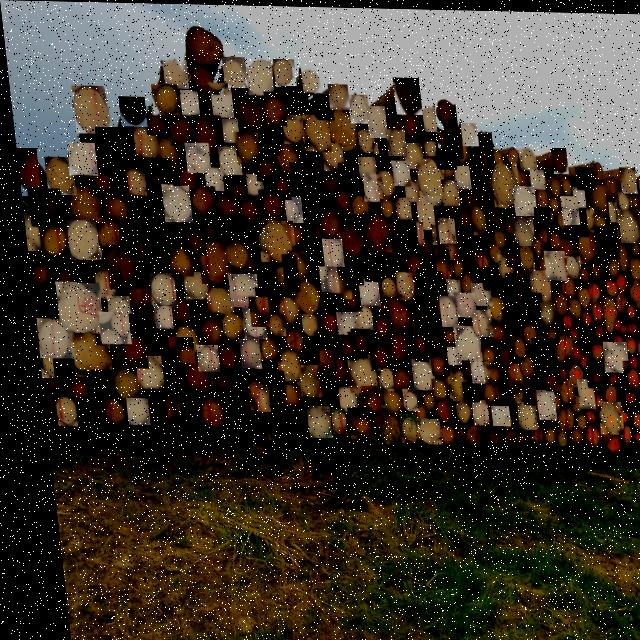wood-log: (49, 281, 98, 333), (58, 333, 105, 377), (92, 126, 134, 175), (69, 86, 109, 134), (100, 244, 142, 289), (252, 219, 292, 262), (184, 24, 223, 65), (192, 239, 227, 284), (29, 318, 67, 359), (286, 161, 321, 203), (61, 220, 97, 260), (486, 160, 517, 206), (329, 212, 362, 255), (23, 188, 59, 227), (231, 90, 266, 129), (130, 233, 165, 272), (323, 108, 356, 149), (412, 157, 443, 200), (41, 157, 75, 196), (64, 185, 99, 222), (338, 352, 370, 392), (171, 360, 204, 398), (190, 114, 221, 154), (295, 335, 329, 370), (157, 184, 188, 222), (13, 148, 37, 197), (299, 113, 329, 151), (446, 323, 475, 362), (211, 388, 242, 424), (109, 332, 140, 368), (287, 276, 317, 313), (127, 355, 157, 392), (244, 57, 273, 95), (222, 272, 253, 307), (391, 76, 420, 113), (91, 312, 124, 344), (359, 211, 386, 250), (64, 142, 94, 177), (279, 85, 308, 121), (130, 196, 160, 230), (429, 204, 455, 243), (467, 130, 492, 170), (34, 226, 64, 259), (199, 287, 228, 321), (310, 201, 337, 237), (381, 296, 407, 333), (143, 272, 171, 306), (411, 194, 439, 228), (140, 158, 169, 190), (149, 83, 178, 115), (524, 336, 549, 373), (116, 96, 145, 127), (100, 295, 128, 327), (253, 398, 281, 430), (130, 126, 157, 159), (164, 292, 191, 325), (254, 190, 281, 223), (287, 363, 314, 396), (588, 399, 615, 432), (583, 177, 608, 212), (84, 269, 112, 300), (151, 218, 178, 250), (231, 131, 258, 163), (338, 406, 365, 438), (268, 348, 294, 381), (406, 299, 432, 332), (176, 271, 206, 299), (613, 206, 637, 241), (187, 185, 214, 216), (104, 367, 131, 398), (165, 326, 192, 357), (189, 312, 216, 343), (297, 405, 323, 437), (18, 210, 38, 251), (181, 142, 208, 172), (45, 256, 72, 286), (220, 240, 247, 270), (595, 339, 621, 370), (569, 227, 592, 262), (378, 330, 403, 362), (374, 241, 399, 273), (191, 396, 215, 429), (432, 97, 456, 130), (262, 91, 285, 125), (523, 268, 546, 302), (272, 140, 298, 170), (269, 296, 295, 326), (214, 145, 239, 176), (91, 217, 116, 248), (153, 344, 178, 375), (221, 56, 246, 87), (82, 370, 107, 401), (235, 307, 260, 338), (335, 162, 359, 194), (403, 357, 427, 389), (438, 366, 461, 399), (160, 336, 188, 363), (161, 59, 187, 88), (100, 196, 126, 225), (67, 401, 92, 431), (508, 184, 533, 214), (320, 267, 345, 297), (208, 86, 232, 117), (307, 377, 330, 409), (592, 224, 615, 256), (214, 314, 240, 342), (163, 247, 188, 276), (122, 283, 147, 312), (143, 105, 167, 135), (168, 115, 192, 145), (86, 167, 110, 197), (538, 248, 562, 278), (138, 390, 159, 424), (410, 267, 433, 298), (279, 114, 302, 145), (231, 337, 254, 368), (23, 259, 46, 290), (87, 318, 114, 344), (507, 215, 531, 244), (211, 341, 233, 372), (188, 344, 213, 371), (407, 416, 432, 443), (117, 397, 141, 425), (297, 226, 321, 254), (364, 104, 385, 136), (169, 391, 191, 421), (46, 396, 68, 426), (317, 355, 339, 385), (242, 296, 263, 327), (43, 355, 67, 382), (188, 63, 212, 90), (276, 253, 293, 291), (59, 375, 82, 403), (155, 138, 178, 166), (272, 58, 295, 86), (318, 142, 341, 170), (266, 266, 289, 294), (369, 140, 392, 168), (92, 397, 115, 425), (316, 237, 339, 265), (352, 277, 374, 306), (346, 93, 368, 122), (507, 399, 529, 428), (281, 250, 303, 279), (527, 388, 548, 418), (117, 219, 141, 245), (253, 370, 277, 396), (432, 294, 452, 325), (213, 191, 235, 219), (203, 367, 224, 396), (311, 349, 332, 378), (352, 385, 372, 415), (556, 193, 576, 223), (251, 155, 274, 181), (447, 290, 470, 316), (329, 384, 351, 411), (479, 295, 501, 322), (578, 359, 600, 386), (464, 308, 486, 335), (122, 167, 143, 195), (487, 341, 508, 369), (383, 127, 404, 155), (178, 89, 198, 118), (239, 381, 259, 410), (494, 278, 514, 307), (558, 205, 578, 234), (489, 377, 506, 411), (389, 219, 413, 243), (374, 388, 397, 413), (171, 164, 193, 190), (272, 384, 294, 410), (233, 197, 255, 223), (326, 83, 348, 109), (568, 377, 587, 407), (390, 412, 409, 442), (255, 128, 276, 155), (311, 92, 332, 119), (359, 173, 380, 200), (467, 205, 487, 233), (388, 270, 408, 298), (372, 169, 392, 197), (440, 129, 460, 157), (301, 257, 324, 281), (121, 314, 145, 337), (437, 177, 456, 206), (614, 358, 633, 387), (348, 194, 370, 219), (251, 335, 273, 360), (178, 229, 200, 254), (612, 385, 634, 410), (344, 327, 366, 352), (299, 65, 320, 91), (400, 141, 421, 167), (387, 159, 408, 185), (245, 250, 266, 276), (362, 343, 383, 369), (419, 328, 439, 355), (267, 172, 287, 199), (337, 257, 357, 284), (340, 330, 360, 357), (30, 345, 46, 378), (249, 287, 271, 311), (329, 310, 351, 334), (398, 111, 418, 137), (510, 244, 530, 270), (280, 196, 300, 222), (31, 284, 51, 310), (313, 265, 333, 291), (312, 309, 331, 336), (194, 216, 216, 239), (464, 281, 486, 304), (34, 377, 55, 401), (355, 129, 376, 153), (566, 206, 584, 234), (200, 166, 220, 191), (365, 311, 385, 336), (329, 334, 349, 359), (615, 165, 634, 191), (432, 216, 451, 242), (462, 397, 480, 424), (146, 305, 167, 328), (411, 238, 431, 262), (433, 123, 453, 147), (384, 218, 404, 242), (404, 332, 421, 360), (384, 365, 403, 390), (329, 188, 348, 213), (513, 378, 532, 403), (420, 105, 438, 131), (450, 205, 468, 231), (354, 155, 374, 178), (495, 309, 514, 333), (515, 144, 534, 168), (548, 146, 565, 172), (391, 196, 408, 222), (399, 251, 419, 273), (224, 174, 244, 196), (294, 313, 314, 335), (242, 173, 261, 196), (336, 287, 355, 310), (219, 118, 237, 142), (348, 305, 366, 329), (321, 407, 337, 434), (357, 256, 375, 280), (402, 220, 420, 244), (535, 365, 553, 389), (558, 253, 576, 277), (491, 252, 508, 277), (426, 223, 447, 243), (69, 262, 89, 283), (227, 367, 246, 389), (426, 397, 445, 419), (499, 239, 515, 265), (450, 164, 468, 187), (458, 121, 476, 144), (319, 170, 336, 194), (246, 386, 262, 411), (432, 149, 453, 168), (261, 313, 279, 335), (572, 165, 590, 187), (533, 300, 550, 323), (475, 265, 492, 288), (576, 206, 592, 230), (517, 291, 536, 311), (482, 404, 501, 424), (460, 185, 478, 206), (508, 271, 526, 292), (450, 139, 467, 161), (225, 215, 242, 237), (446, 399, 463, 421), (374, 274, 391, 296), (393, 387, 409, 410), (462, 359, 478, 382), (422, 355, 441, 374), (480, 324, 500, 342), (400, 178, 416, 200), (370, 367, 386, 389), (467, 360, 483, 382), (429, 247, 445, 269), (602, 190, 615, 216), (526, 167, 542, 188), (631, 388, 640, 424), (530, 205, 547, 224), (568, 185, 582, 208), (499, 361, 513, 384), (454, 380, 470, 400), (376, 197, 391, 218), (423, 377, 440, 395), (439, 345, 455, 364), (476, 381, 490, 402), (25, 286, 35, 315), (440, 277, 455, 296), (282, 410, 297, 429), (454, 358, 468, 378), (206, 81, 227, 94), (438, 239, 452, 258), (604, 200, 616, 222), (35, 397, 44, 425), (614, 189, 628, 207), (589, 210, 601, 229), (499, 271, 518, 282), (421, 139, 434, 154), (634, 222, 640, 250), (634, 175, 640, 196), (637, 318, 640, 340), (640, 341, 640, 366)
